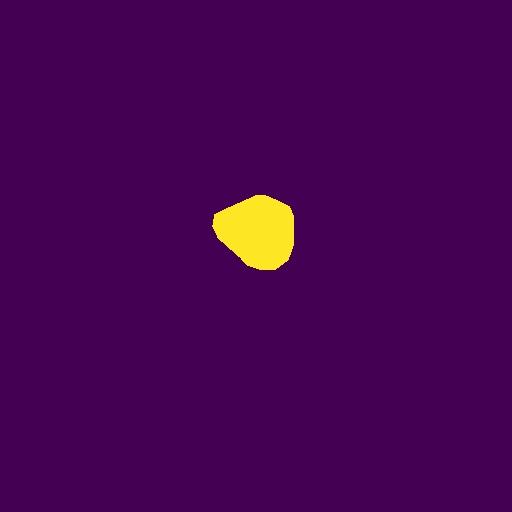Gliomia_tumour: (212, 195, 294, 270)
